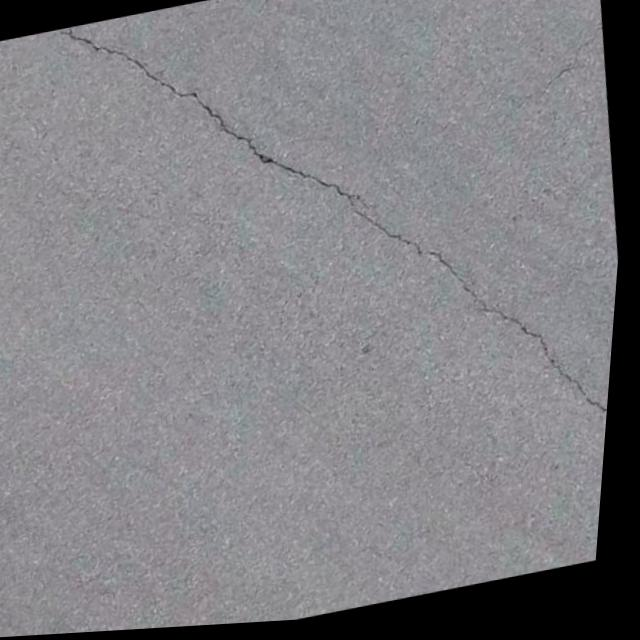Crack: (332, 154, 629, 505), (1, 0, 359, 261)
